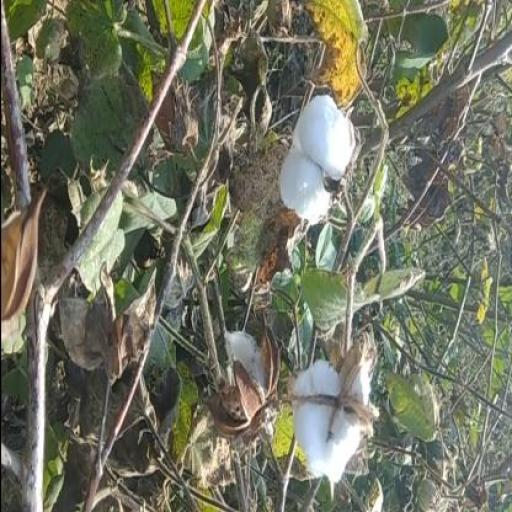cotton_ready: (286, 332, 391, 477), (277, 103, 351, 243)
